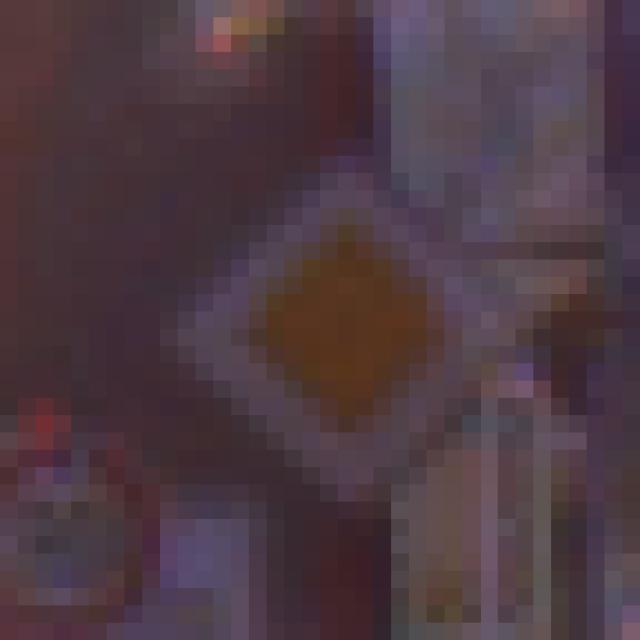Main Road: (90, 105, 552, 554)
